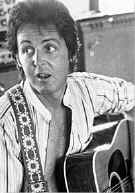guitar: (63, 115, 135, 193)
